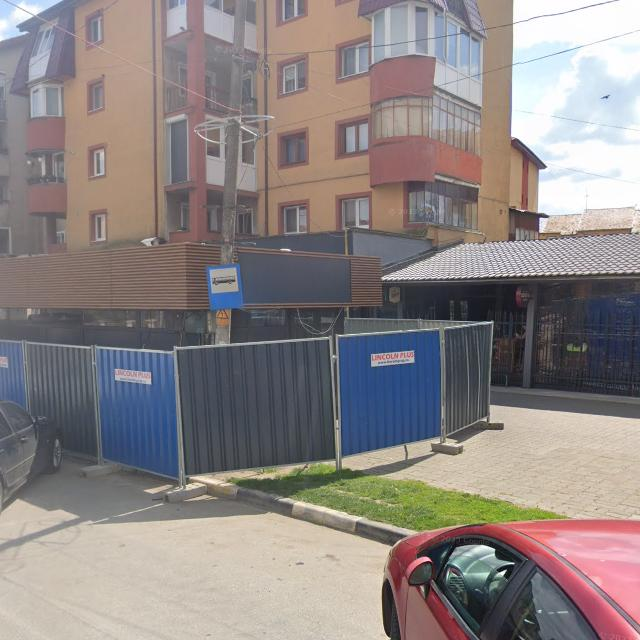info_bus_station: (207, 264, 244, 308)
